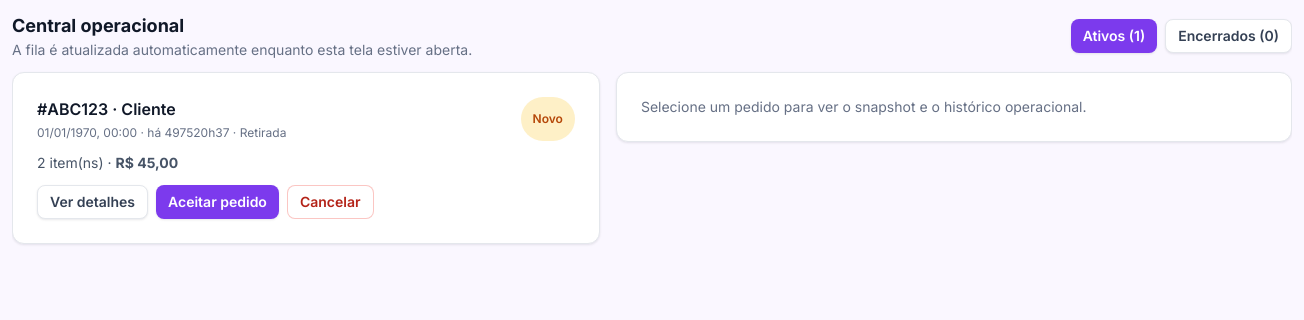
Test: operação de pedidos no painel › distingue status salvo de falha posterior da notificação
The width and height of the screenshot is (1304, 320).
Step 1. Click the button "Aceitar pedido" → (217, 202), box x1=156 y1=185 x2=279 y2=219
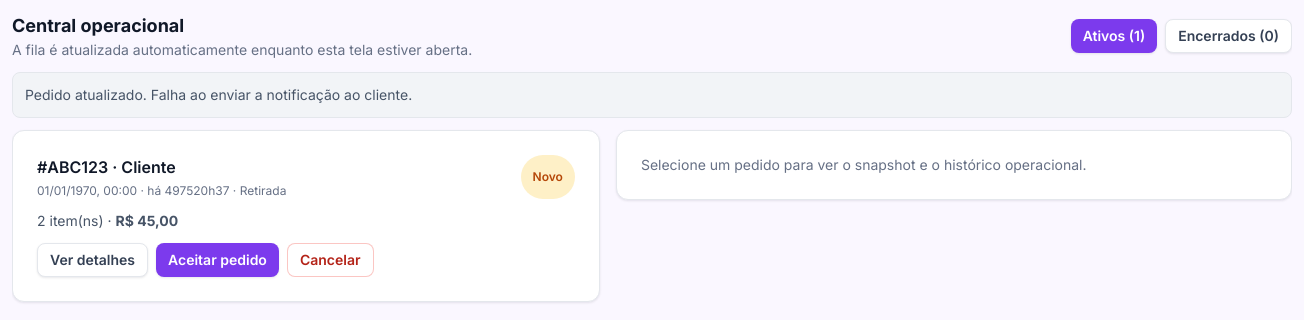
Expected: the message shows "Pedido atualizado", x1=25 y1=86 x2=412 y2=103
Expected: the message shows "Falha ao enviar", x1=25 y1=86 x2=412 y2=103
